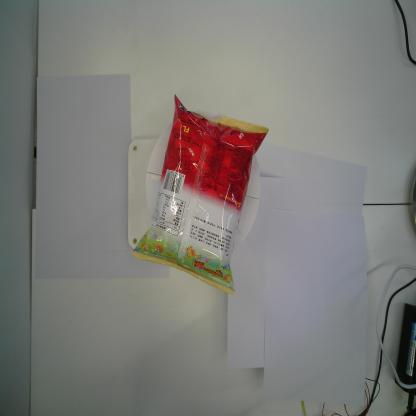Puffed Food: (130, 94, 270, 294)
